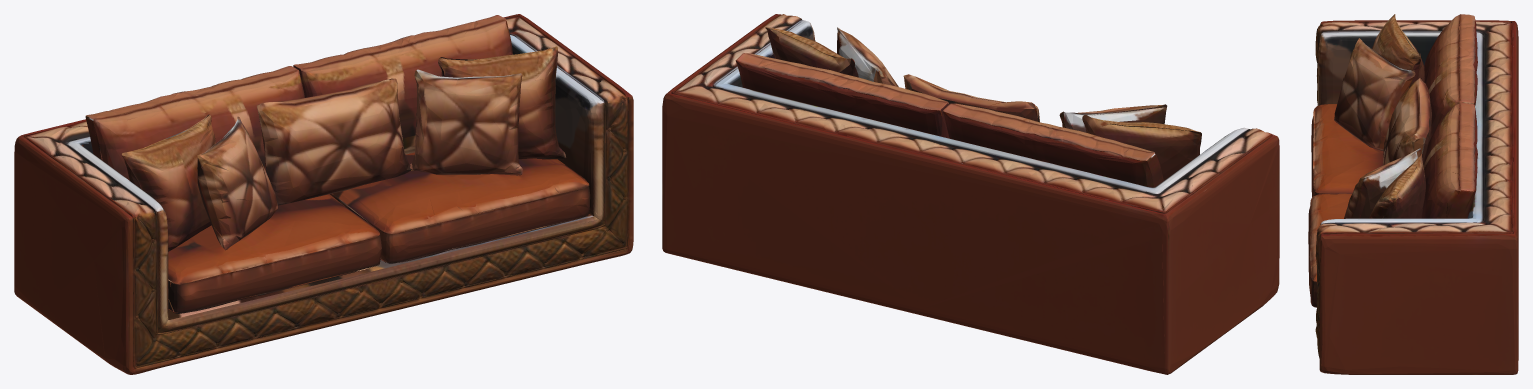
Rendered from edited_mesh.glb.
The picture shows the model from 3 angles, left to right: view 1: azimuth 30°, elevation 25°; view 2: azimuth 150°, elevation 25°; view 3: azimuth 270°, elevation 25°; orthographic projection. The views are drawn at different scales.
Visible parts, largest first — view 1: solid_001_wire; view 2: solid_001_wire; view 3: solid_001_wire.
Part boxes in pixels (x1=…): solid_001_wire: x1=14, y1=14, x2=633, y2=374; solid_001_wire: x1=662, y1=14, x2=1279, y2=374; solid_001_wire: x1=1308, y1=14, x2=1518, y2=374.
Bounding box in the file's own units: 2 × 0.7095 × 0.8163.
Materials: 1 (1 with a texture image).
